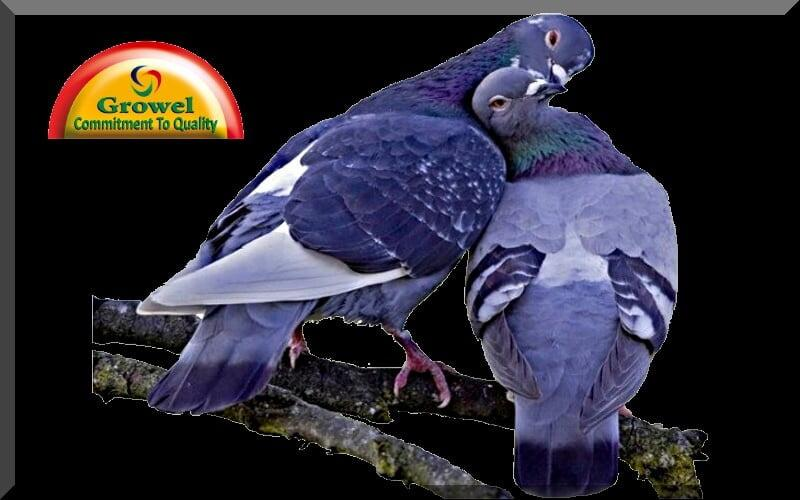Flying Rat: (111, 17, 620, 410), (482, 80, 688, 463)
